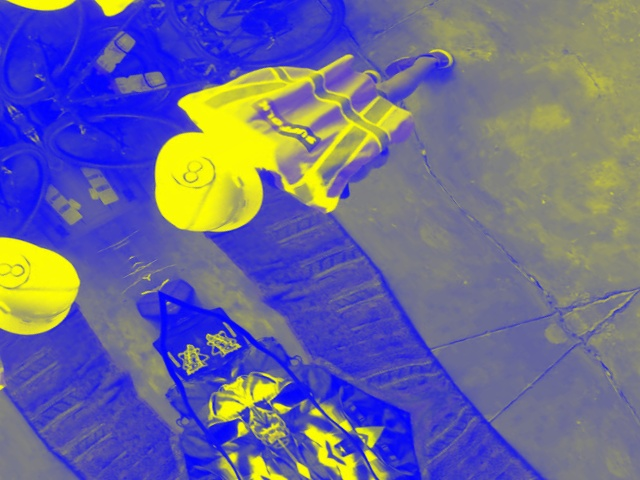eight: (161, 144, 222, 196)
